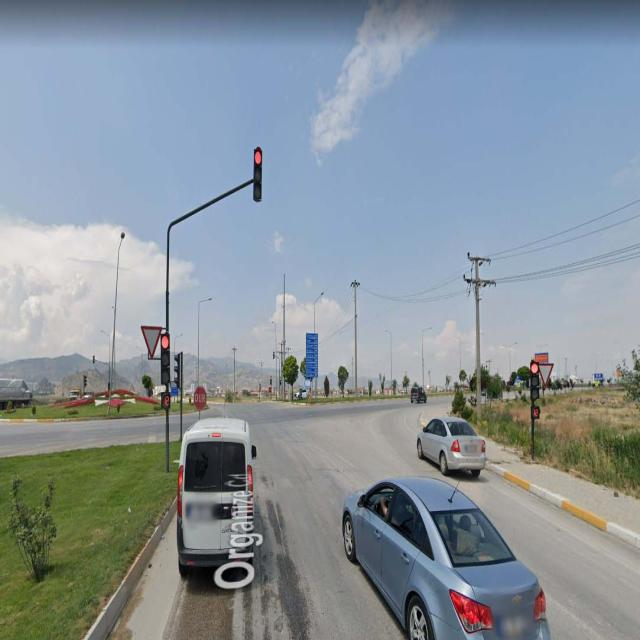kirmizi: (253, 147, 263, 200), (160, 333, 170, 385), (531, 361, 538, 400)
